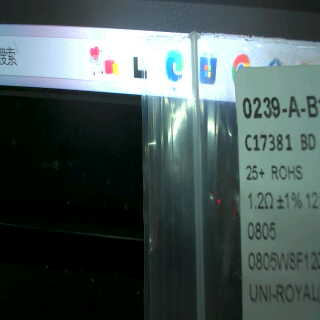1.2R: (246, 188, 277, 241)
